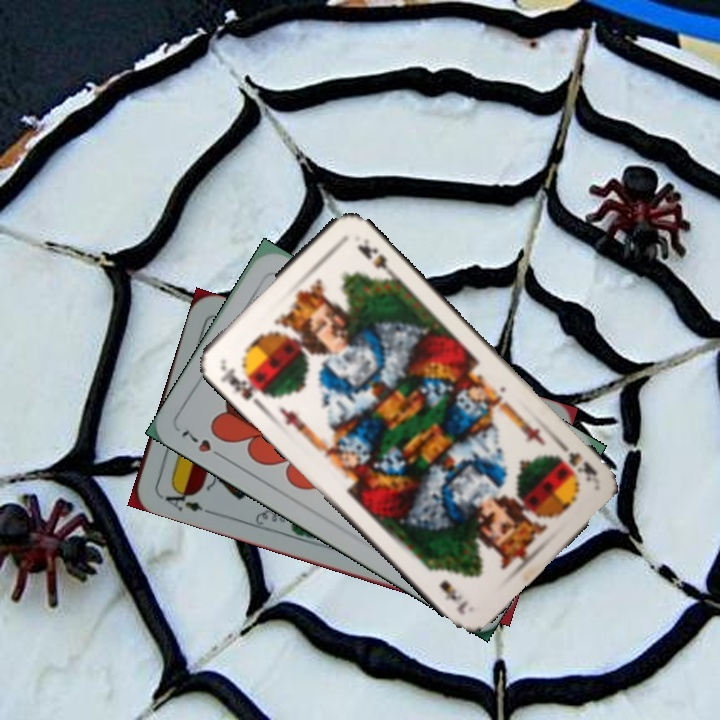EA: (157, 482, 214, 517)
H7: (177, 424, 229, 463)
SK: (216, 358, 269, 409), (552, 434, 600, 485)
